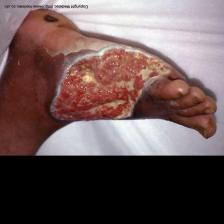Wound: (49, 45, 169, 123)
